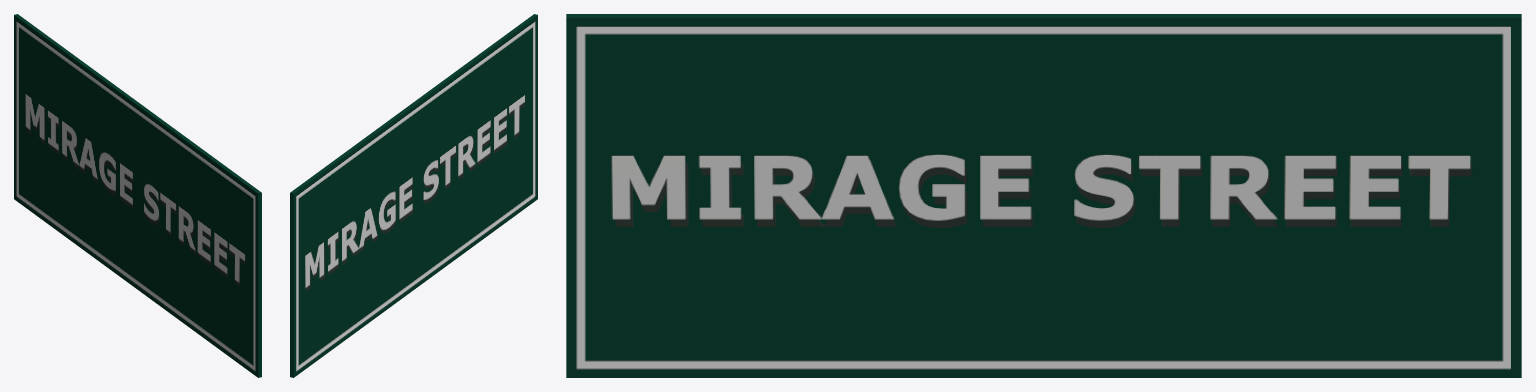
File: StreetNamePlate2.0.fbx
3 renders of one model, left to right at view 1: azimuth 30°, elevation 25°; view 2: azimuth 150°, elevation 25°; view 3: azimuth 270°, elevation 25°, orthographic. The views are drawn at different scales.
Visible parts, largest first — view 1: pCube17; view 2: pCube17; view 3: pCube17.
Part boxes in pixels (bbox=[...]): pCube17: bbox=[14, 14, 261, 377]; pCube17: bbox=[290, 14, 537, 377]; pCube17: bbox=[566, 14, 1521, 377].
Bounding box in the file's own units: 0.00585 × 0.2757 × 0.6622.
1 material, 1 textured.
